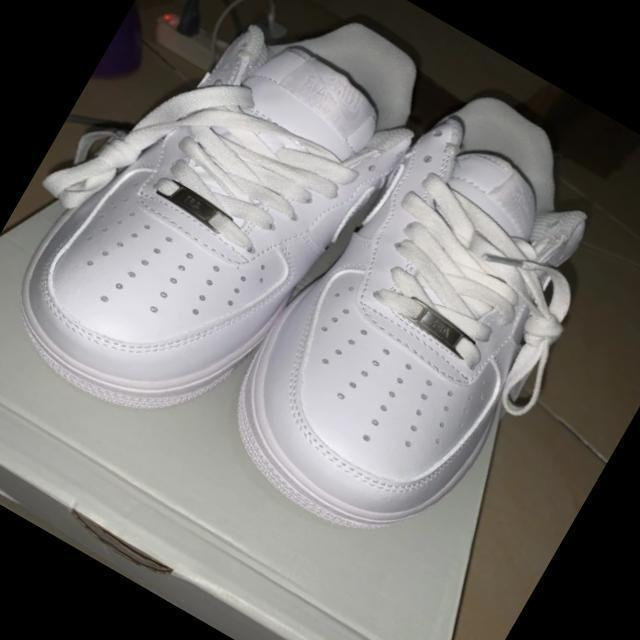nike original air force: (200, 57, 640, 577), (0, 0, 456, 471)
